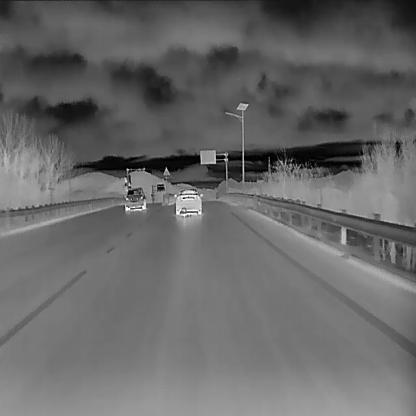car: (173, 187, 203, 215), (124, 186, 146, 210)
